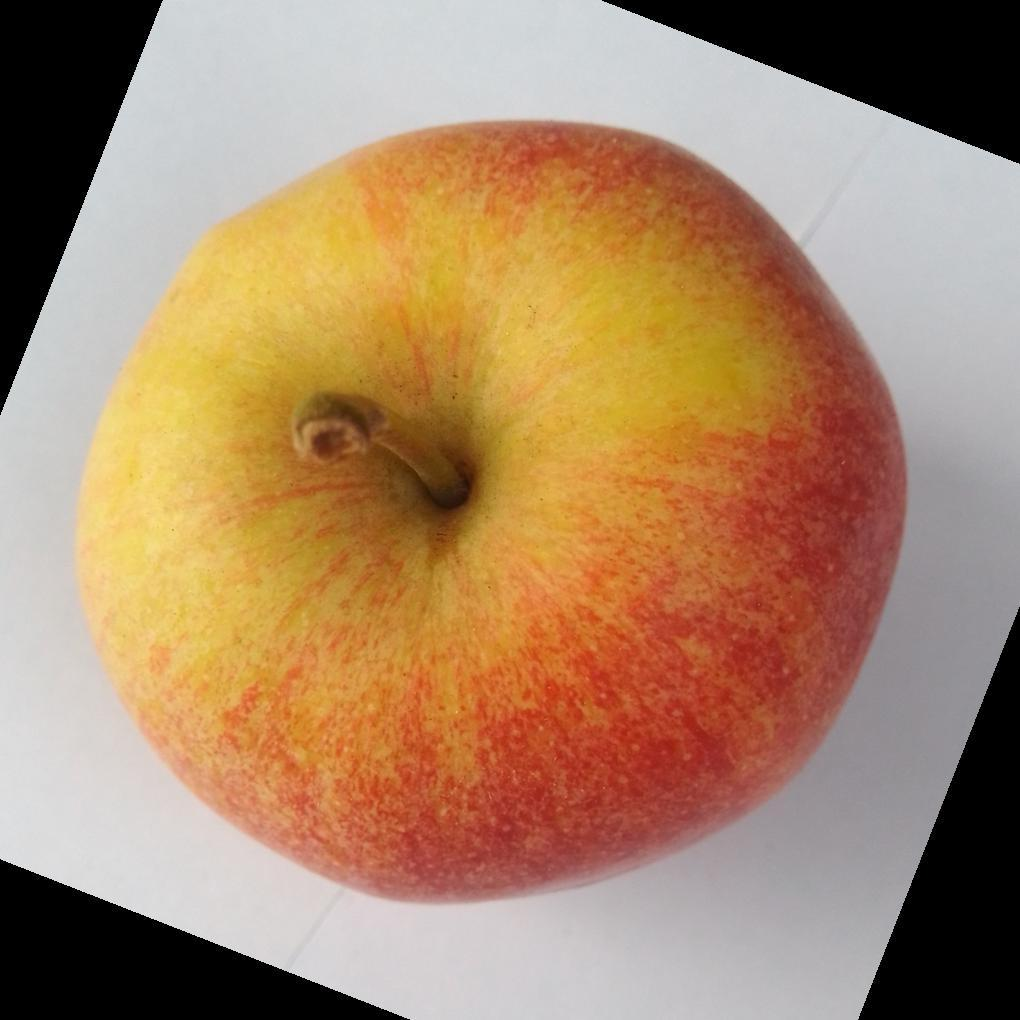FreshGuava: (72, 121, 909, 909)
